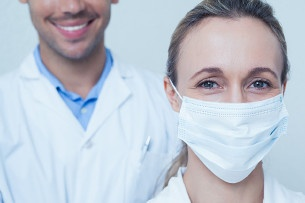Mask: (177, 61, 296, 180)
